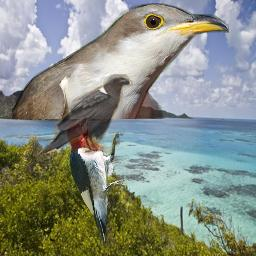Crow: (37, 74, 133, 159)
Cuckoo: (12, 3, 229, 119)
Woodpecker: (66, 108, 125, 248)
